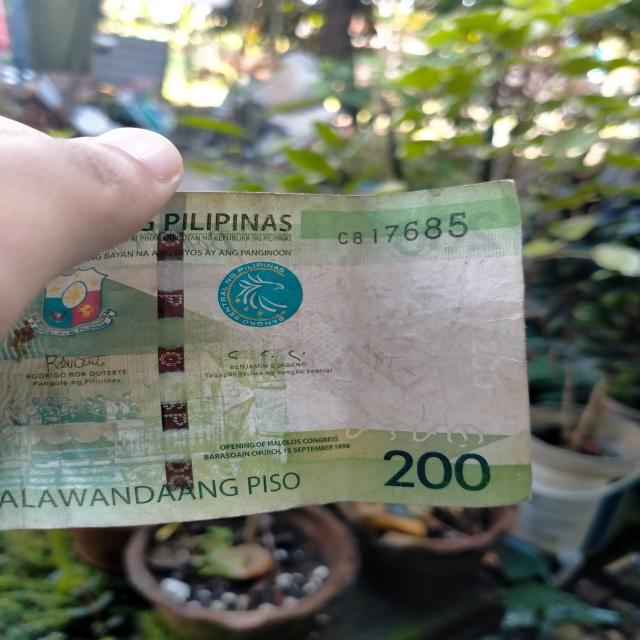security_thread: (159, 190, 195, 520)
see_through_mark: (314, 404, 495, 463)
serial_number: (329, 211, 482, 246)
value_watermark: (458, 335, 508, 399)
watermark: (318, 229, 470, 408)
